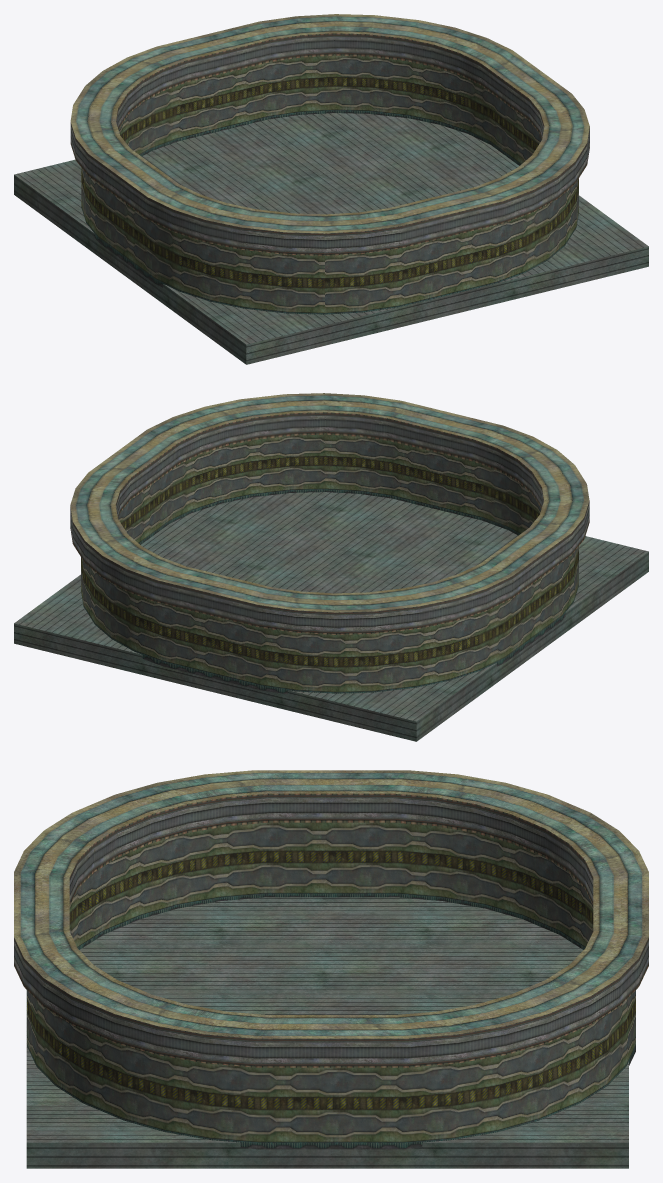
Rendered from arenaModel.obj.
3 views of the same model, one above another, from view 1: azimuth 30°, elevation 25°; view 2: azimuth 150°, elevation 25°; view 3: azimuth 270°, elevation 25° (orthographic). The views are drawn at different scales.
Parts seen in each view (by area): view 1: arenaWalls, arenaBorders, arenaGround; view 2: arenaWalls, arenaBorders, arenaGround; view 3: arenaWalls, arenaBorders, arenaGround.
Part boxes in pixels (x1,y1,x2,y2): arenaWalls: (81, 55, 578, 314); arenaBorders: (70, 14, 589, 255); arenaGround: (14, 113, 648, 364); arenaWalls: (81, 434, 578, 694); arenaBorders: (70, 393, 589, 634); arenaGround: (14, 492, 648, 741); arenaWalls: (27, 822, 635, 1149); arenaBorders: (14, 770, 648, 1067); arenaGround: (26, 897, 628, 1168).
Size of the model in its own units: 35.04 by 8.35 by 35.04.
Materials: 3 (3 with a texture image).
